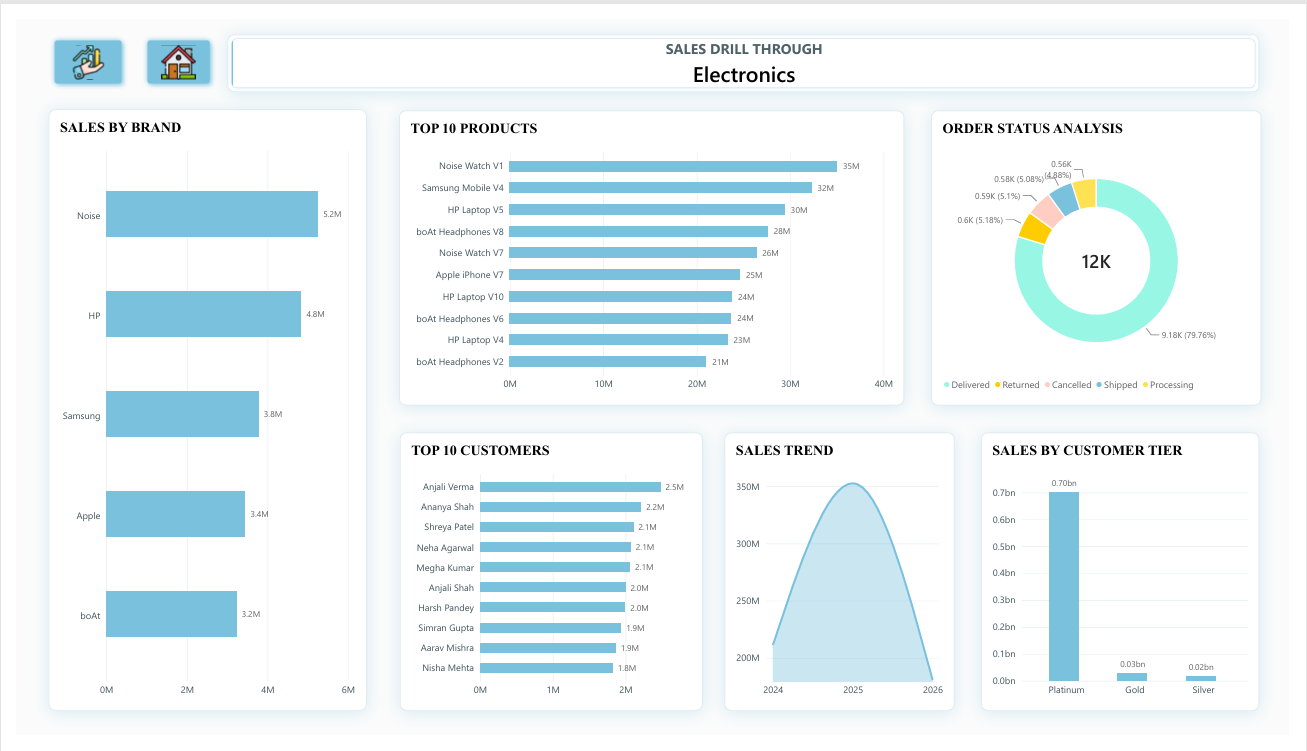

The dashboard page shown, as its layout file describes it:
{"tool":"powerbi","page":{"name":"SALES DRILL THROUGH","canvas":[1920,1080],"ordinal":4},"visuals":[{"type":"areaChart","title":"SALES TREND","fields":{"Category":["sales.Order_Date.Variation.Date Hierarchy.Year","sales.Order_Date.Variation.Date Hierarchy.Quarter","sales.Order_Date.Variation.Date Hierarchy.Month","sales.Order_Date.Variation.Date Hierarchy.Day"],"Y":["Sum(sales.Total_Amount)"]},"box":[1068,622,360,420],"z":0},{"type":"clusteredColumnChart","title":"SALES BY CUSTOMER TIER","fields":{"Category":["customer.Customer_Tier"],"Y":["Sum(sales.Total_Amount)"]},"box":[1455,622.5,420,420],"z":1000},{"type":"clusteredBarChart","title":"TOP 10 PRODUCTS","fields":{"Category":["product.Product_Name"],"Y":["Sum(sales.Total_Amount)"]},"box":[576.7,136.7,762.5,445],"z":2000},{"type":"clusteredBarChart","title":"TOP 10 CUSTOMERS","fields":{"Category":["customer.Customer_Name"],"Y":["Sum(sales.Total_Amount)"]},"box":[577.5,622.5,457.5,420],"z":3000},{"type":"clusteredBarChart","title":"SALES BY BRAND","fields":{"Category":["product.Brand"],"Y":["Sum(sales.Total_Amount)"]},"box":[47.5,135,480,907.5],"z":4000},{"type":"donutChart","title":"ORDER STATUS ANALYSIS","fields":{"Category":["sales.Order_Status"],"Y":["CountNonNull(sales.Order_ID)"]},"box":[1380,136.7,497.5,445],"z":5000},{"type":"cardVisual","fields":{"Data":["Min(product.Category)"]},"box":[318.4,22.1,1557.1,86.5],"z":6000},{"type":"actionButton","box":[47.9,22.1,119.6,82.8],"z":7000},{"type":"actionButton","box":[187.7,22.1,112.3,82.8],"z":8000}]}

Visuals, with their boxes in screenshot pixels (x1, y1, x2, y2), scaled from the page's 1920x1080 canvas onto the 1307x751 screenshot:
"SALES TREND" areaChart: bbox(727, 433, 972, 725)
"SALES BY CUSTOMER TIER" clusteredColumnChart: bbox(990, 433, 1276, 725)
"TOP 10 PRODUCTS" clusteredBarChart: bbox(393, 95, 912, 404)
"TOP 10 CUSTOMERS" clusteredBarChart: bbox(393, 433, 705, 725)
"SALES BY BRAND" clusteredBarChart: bbox(32, 94, 359, 725)
"ORDER STATUS ANALYSIS" donutChart: bbox(939, 95, 1278, 404)
cardVisual - Min(product.Category): bbox(217, 15, 1277, 76)
actionButton: bbox(33, 15, 114, 73)
actionButton: bbox(128, 15, 204, 73)
